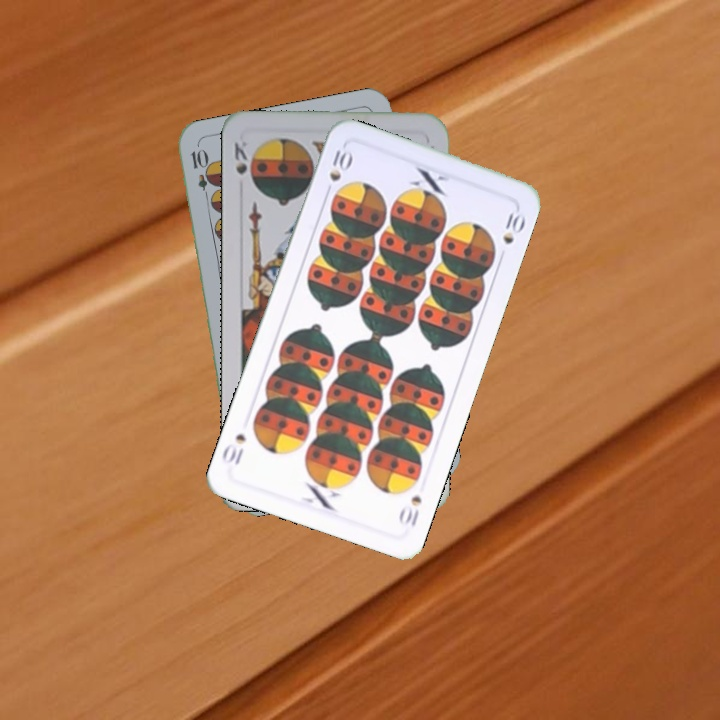E10: (187, 145, 214, 204)
S10: (395, 491, 425, 530), (325, 146, 354, 184)
SK: (230, 137, 250, 177)
